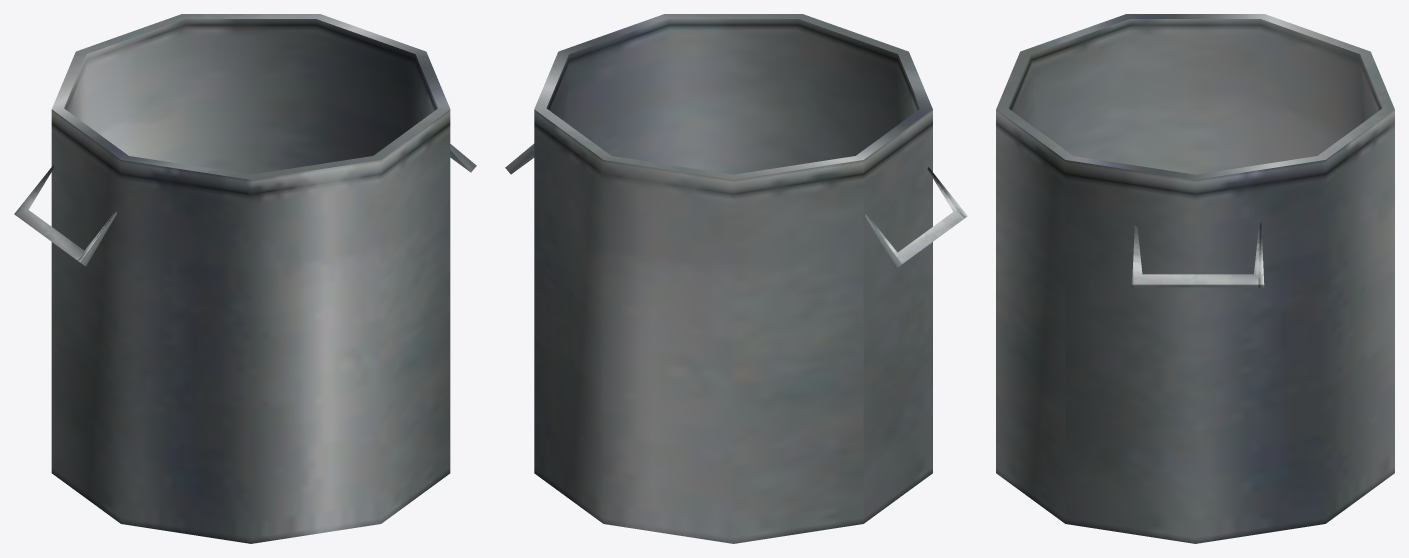
Rendered from bigpot.fbx.
3 views of the same model, side by side, from view 1: azimuth 30°, elevation 25°; view 2: azimuth 150°, elevation 25°; view 3: azimuth 270°, elevation 25° (orthographic).
Parts seen in each view (by area): view 1: mesh_0; view 2: mesh_0; view 3: mesh_0.
Boxes of the visible parts, bbox=[...] form: mesh_0: bbox=[14, 14, 476, 543]; mesh_0: bbox=[505, 14, 967, 543]; mesh_0: bbox=[996, 14, 1394, 543].
Bounding box in the file's own units: 45.25 × 39.67 × 39.38.
Materials: 1 (1 with a texture image).
